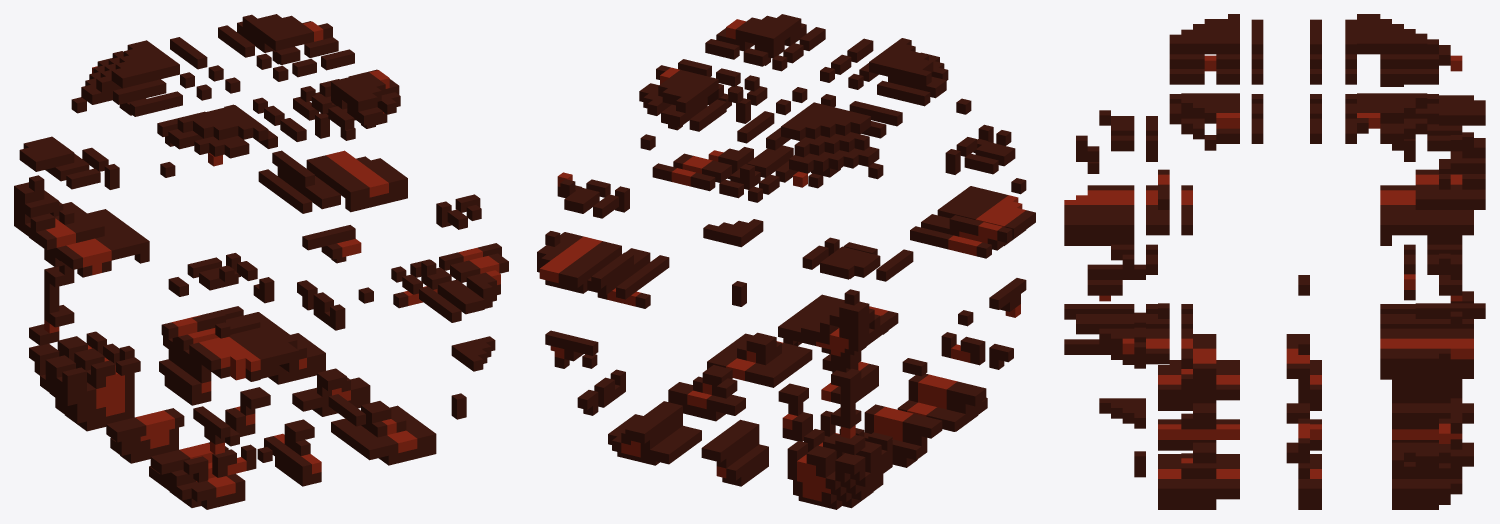
The model's file is explosion_05.obj.
3 views of the same model, side by side, from view 1: azimuth 30°, elevation 25°; view 2: azimuth 150°, elevation 25°; view 3: azimuth 270°, elevation 25° (orthographic). The views are drawn at different scales.
Parts seen in each view (by area): view 1: m_ember, m_darkred; view 2: m_ember, m_darkred; view 3: m_ember, m_darkred.
Part boxes in pixels (left/top/right/bottom): m_ember: left=14, top=14, right=508, bottom=509; m_darkred: left=44, top=21, right=500, bottom=497; m_ember: left=537, top=14, right=1035, bottom=509; m_darkred: left=539, top=19, right=1025, bottom=501; m_ember: left=1064, top=14, right=1485, bottom=509; m_darkred: left=1064, top=55, right=1473, bottom=478.
Size of the model in its own units: 36 by 36 by 36.
